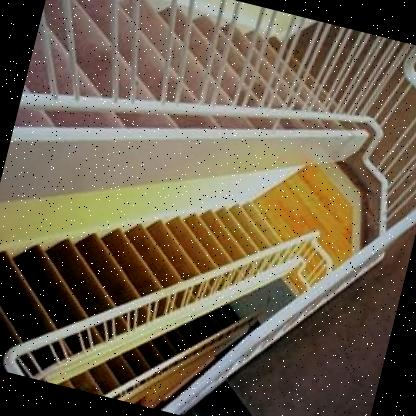stair: (0, 124, 311, 416)
